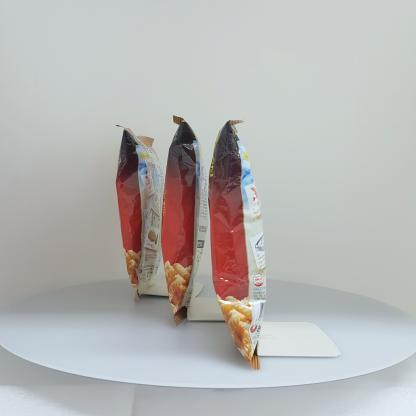Plastic Packaging: (210, 122, 266, 368), (114, 117, 164, 295), (162, 119, 202, 321)
